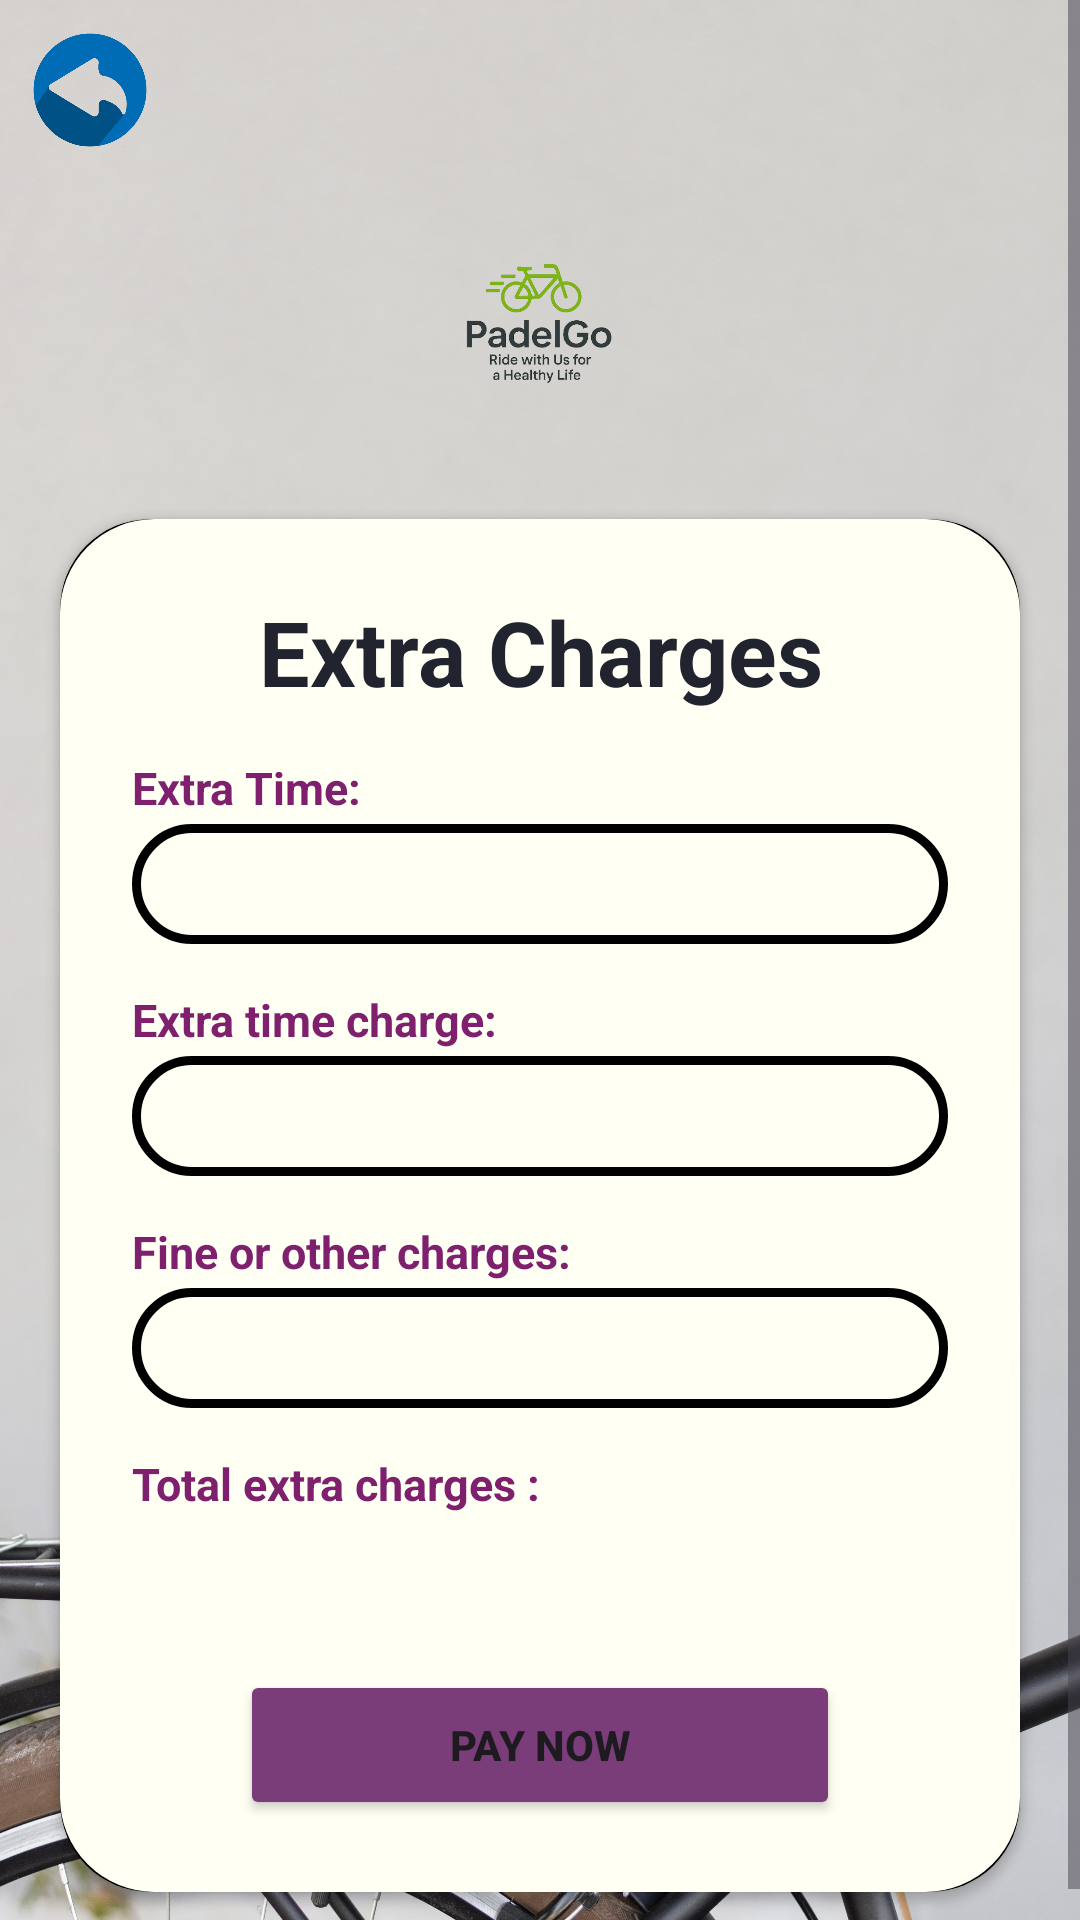

Where icons sit on this 1080px×1920px app screen, as (x1, y1, x2, y2):
backbutton: (33, 33, 147, 147)
